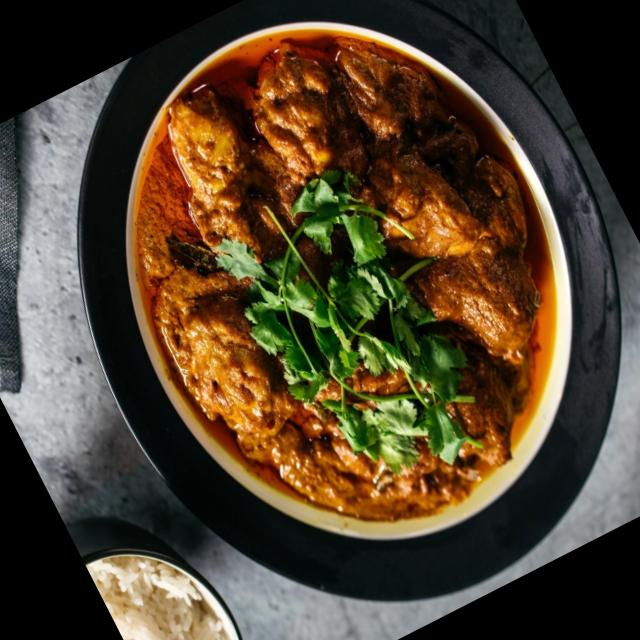chicken: (76, 0, 625, 554)
rice: (89, 522, 259, 640)
